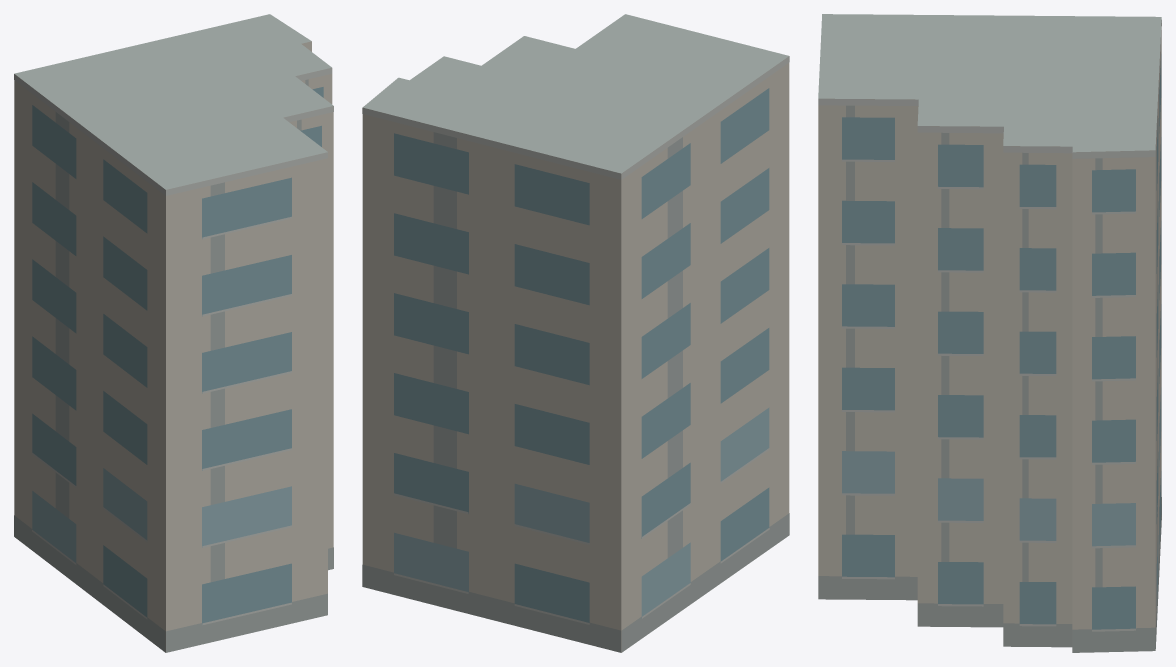
File: survey-upis-32799890.glb
The picture shows the model from 3 angles, left to right: view 1: azimuth 30°, elevation 25°; view 2: azimuth 150°, elevation 25°; view 3: azimuth 270°, elevation 25°; orthographic projection. The views are drawn at different scales.
Visible parts, largest first — view 1: survey-upis-32799890.tmp; view 2: survey-upis-32799890.tmp; view 3: survey-upis-32799890.tmp.
Boxes of the visible parts, box(x1,y1,x2,y2) form: survey-upis-32799890.tmp: box(14, 14, 333, 652); survey-upis-32799890.tmp: box(362, 14, 789, 652); survey-upis-32799890.tmp: box(818, 14, 1161, 652).
Bounding box in the file's own units: 10.84 × 18.3 × 11.39.
